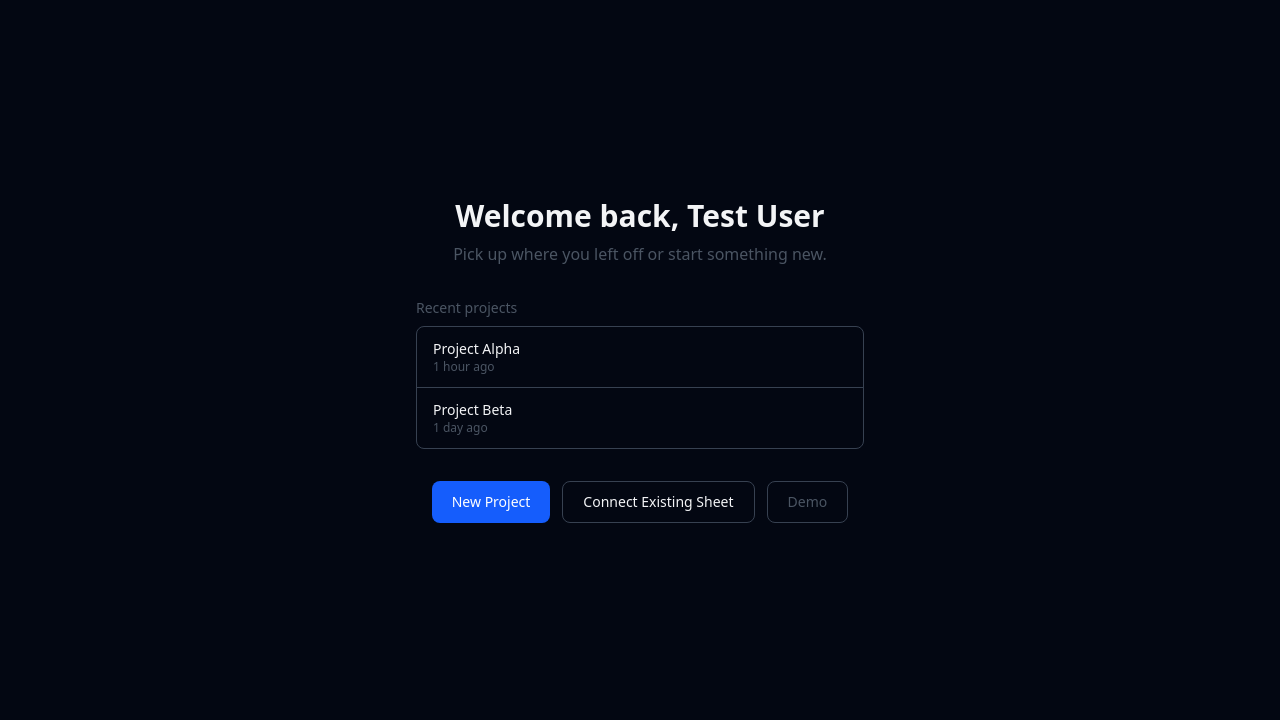
Test: ReturnVisitorWelcome › opens SheetSelector modal when Connect Existing Sheet is clicked
Click the button with test id "connect-existing-button". click: point(658, 502)
box: left=562, top=480, right=755, bottom=522
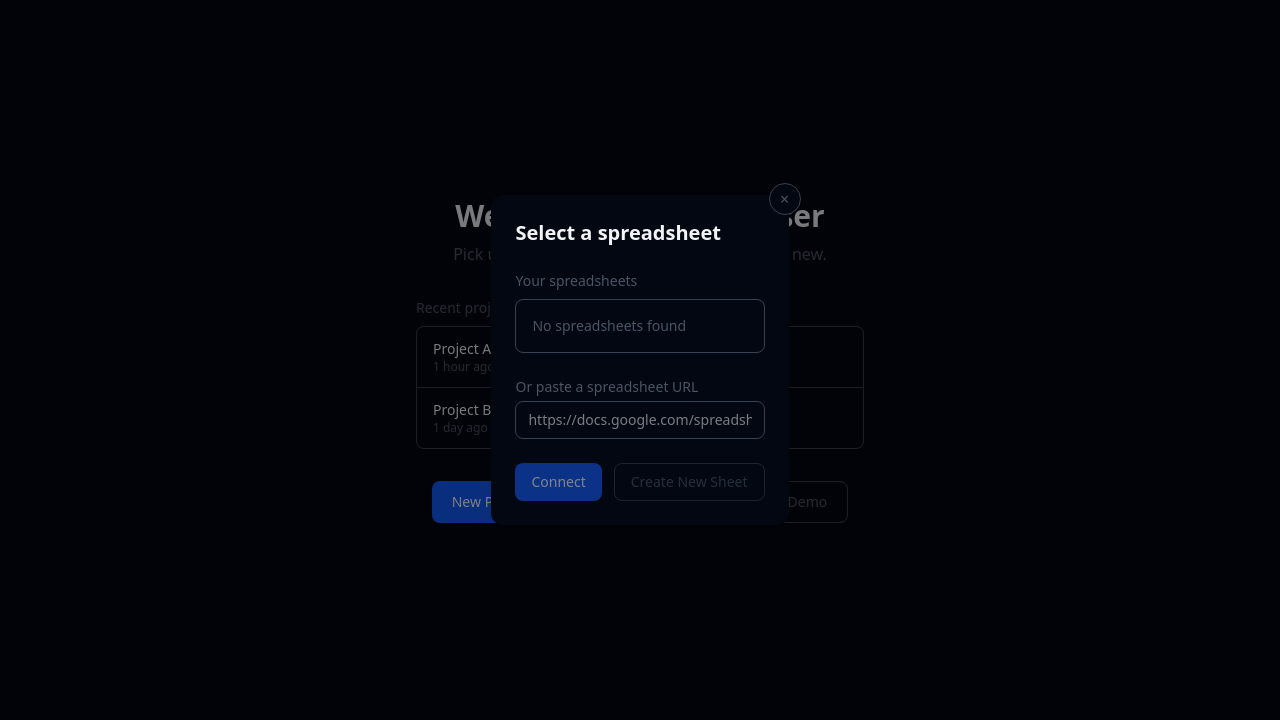
Now the element with test id "sheet-selector-modal" is shown
